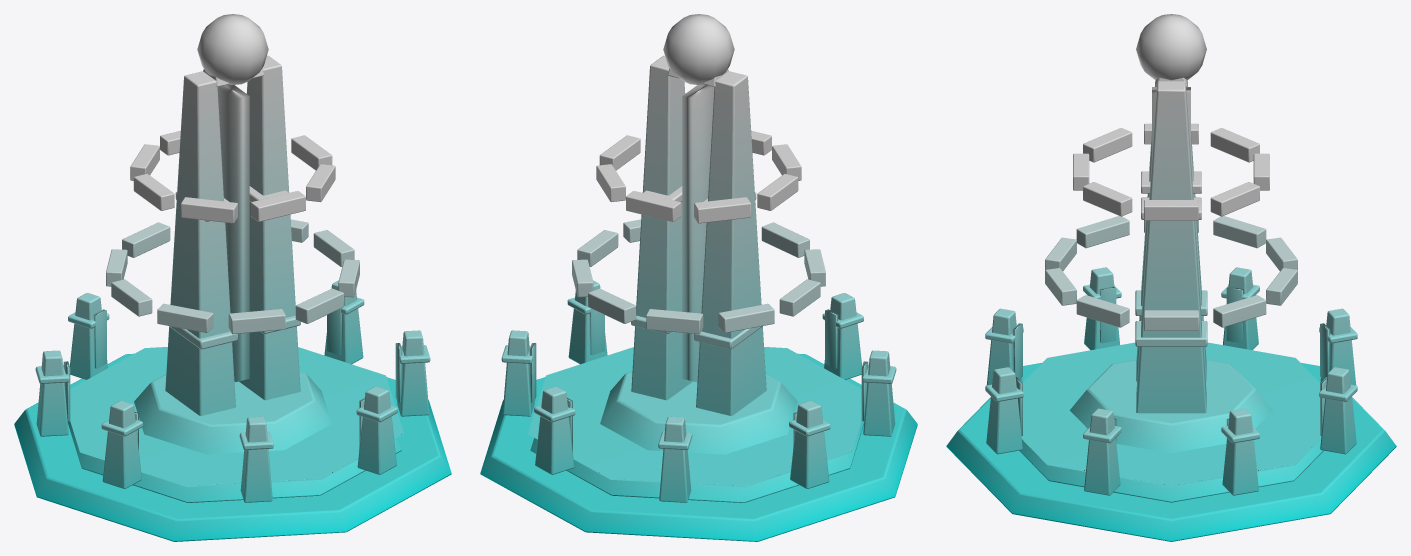
The model's file is antecedent_site_core.glb.
3 views of the same model, side by side, from view 1: azimuth 30°, elevation 25°; view 2: azimuth 150°, elevation 25°; view 3: azimuth 270°, elevation 25° (orthographic).
Parts seen in each view (by area): view 1: body, active, dish; view 2: body, active, dish; view 3: body, active, dish.
Part boxes in pixels (left/top/right/bottom): body: left=14, top=55, right=451, bottom=541; active: left=63, top=14, right=403, bottom=487; dish: left=106, top=130, right=359, bottom=334; body: left=480, top=55, right=917, bottom=541; active: left=528, top=14, right=868, bottom=487; dish: left=572, top=130, right=825, bottom=334; body: left=946, top=77, right=1396, bottom=541; active: left=1012, top=14, right=1330, bottom=486; dish: left=1045, top=123, right=1297, bottom=330.
Bounding box in the file's own units: 13.95 × 14.7 × 13.95.
